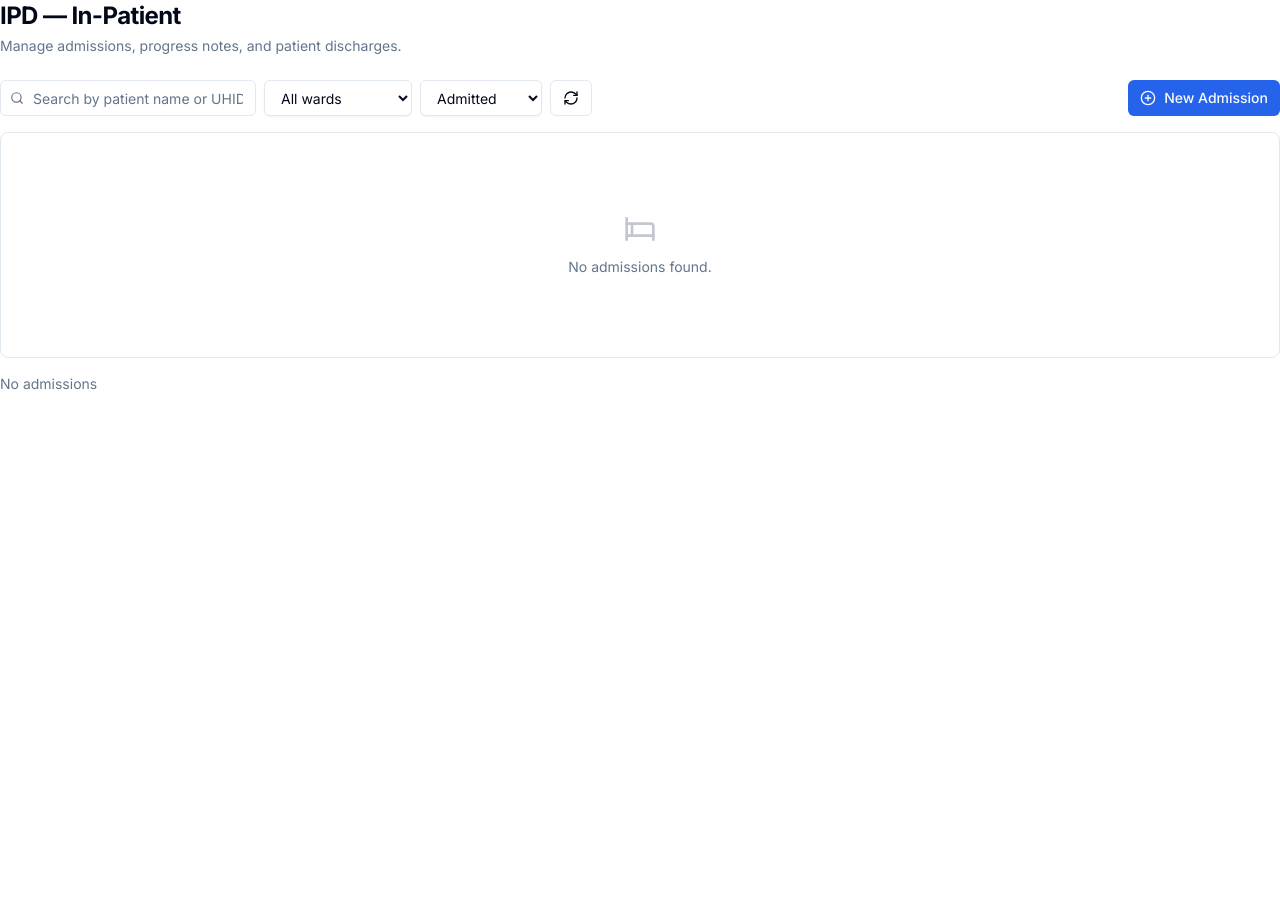
Test: IPD New Admission — optional package › selecting a package auto-selects and locks its ward, showing only that ward's available beds
Click the button "New Admission".
click(1204, 98)  # box [1128,80,1279,116]
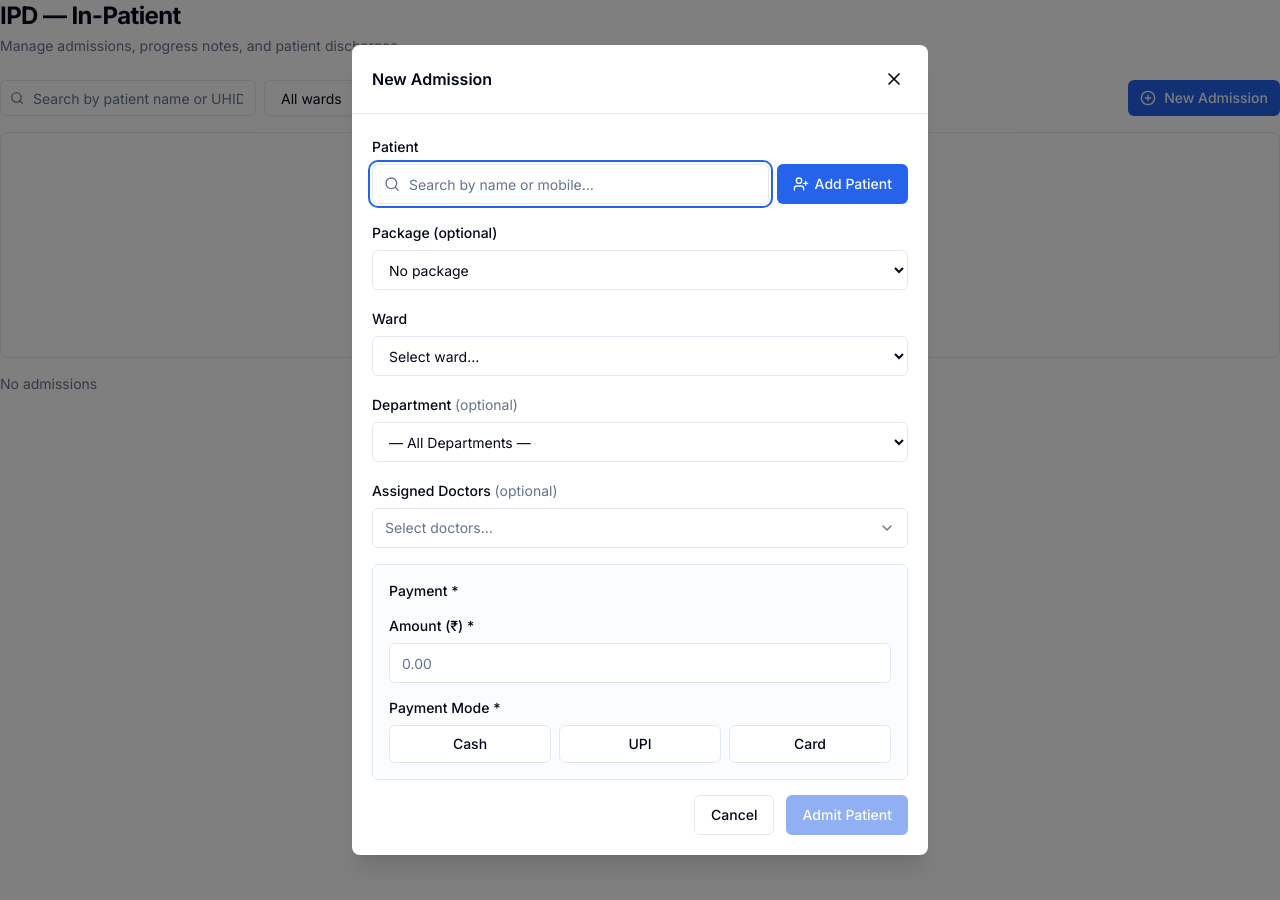
Select "Maternity Pkg — Maternity Ward" in the dropdown labelled "Package (optional)" at (640, 270), box [372,250,908,290]
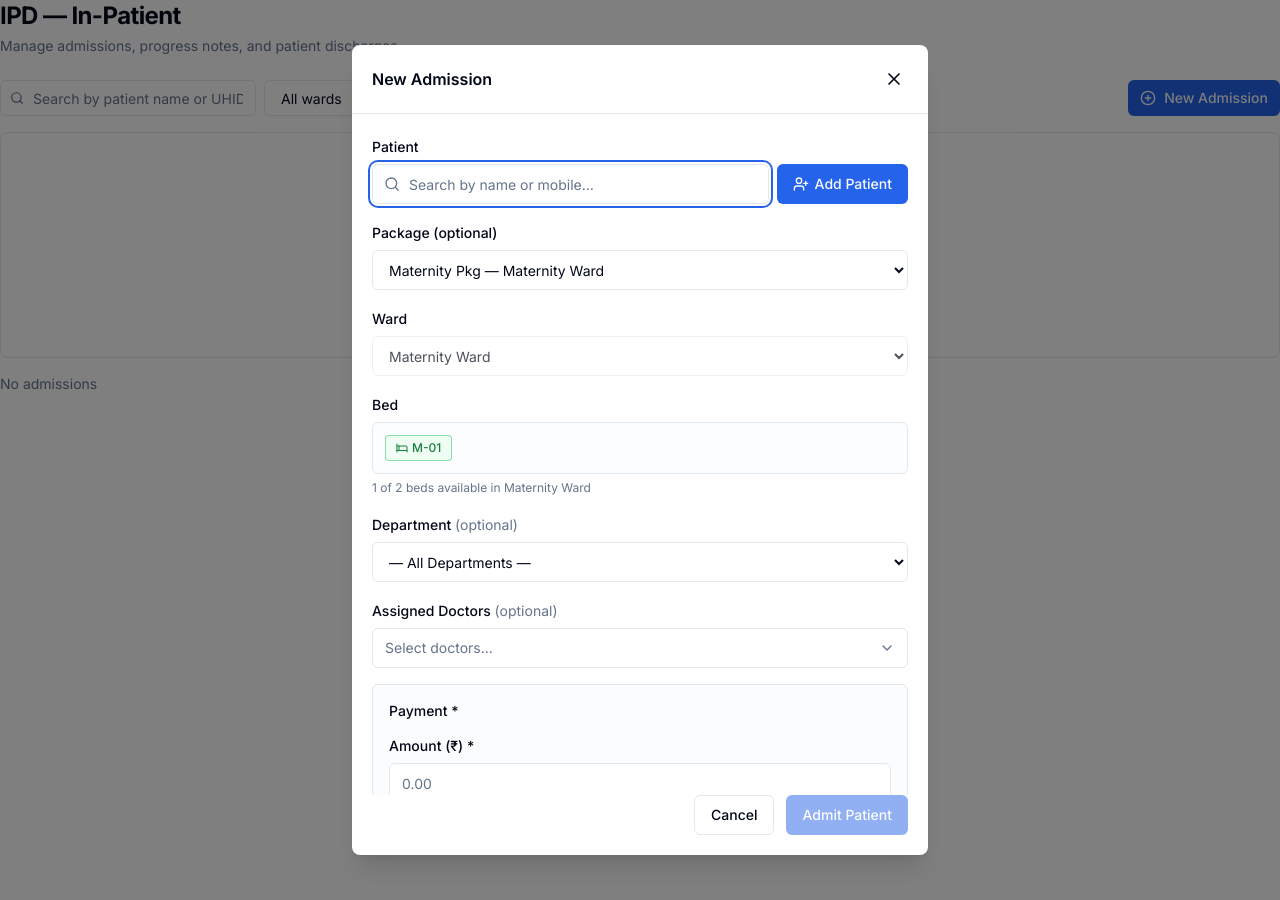
Result: the dropdown labelled "Ward" shows "Maternity Ward" at [372,336,908,376]
Result: the dropdown labelled "Ward" is disabled at [372,336,908,376]
Result: the button "M-01" is shown at [385,435,452,461]
